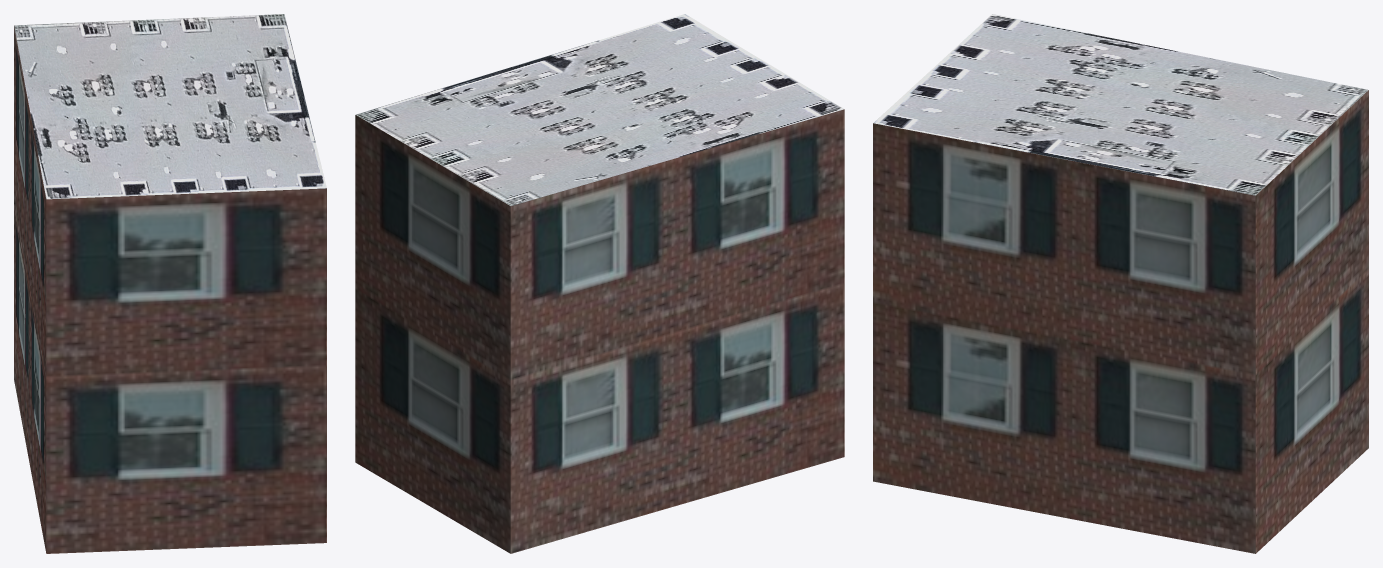
File: ResTex__81.fbx
3 views of the same model, side by side, from view 1: azimuth 30°, elevation 25°; view 2: azimuth 150°, elevation 25°; view 3: azimuth 270°, elevation 25° (orthographic). The views are drawn at different scales.
Parts seen in each view (by area): view 1: CityEngineMaterial_14_m, CityEngineMaterial_m; view 2: CityEngineMaterial_14_m, CityEngineMaterial_m; view 3: CityEngineMaterial_14_m, CityEngineMaterial_m.
Part boxes in pixels (x1,y1,x2,y2): CityEngineMaterial_14_m: (14, 26, 326, 553); CityEngineMaterial_m: (14, 14, 326, 199); CityEngineMaterial_14_m: (355, 109, 844, 553); CityEngineMaterial_m: (355, 14, 843, 205); CityEngineMaterial_14_m: (873, 90, 1368, 553); CityEngineMaterial_m: (873, 14, 1368, 195).
Bounding box in the file's own units: 6.53 × 6 × 7.52.
2 materials, 2 textured.
